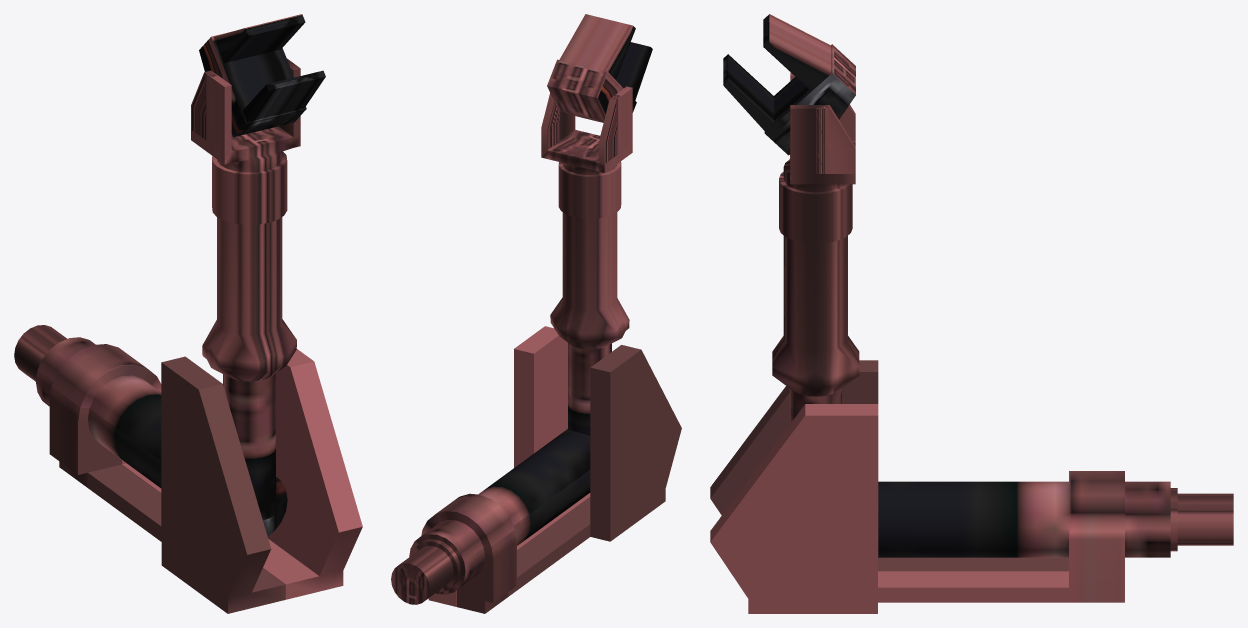
File: ball_arm1.obj
The picture shows the model from 3 angles, left to right: view 1: azimuth 30°, elevation 25°; view 2: azimuth 150°, elevation 25°; view 3: azimuth 270°, elevation 25°; orthographic projection. The views are drawn at different scales.
Parts seen in each view (by area): view 1: pCylinder7; view 2: pCylinder7; view 3: pCylinder7.
Part boxes in pixels (<box>): pCylinder7: <box>14,14,362,613</box>; pCylinder7: <box>391,14,681,613</box>; pCylinder7: <box>710,14,1233,613</box>.
Bounding box in the file's own units: 0.445 × 2.1 × 1.79.
